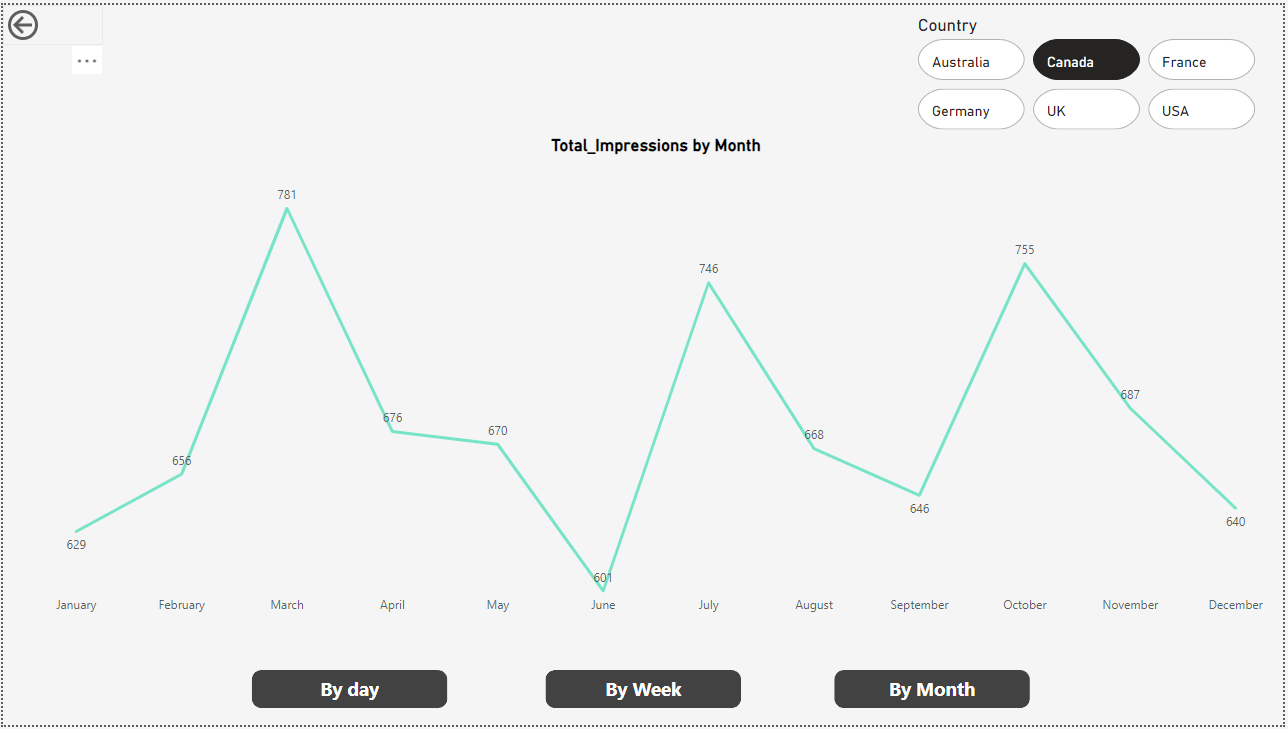

The page's visual inventory and layout, read from the dashboard file:
{"tool":"powerbi","page":{"name":"Timeline","canvas":[1280,720],"ordinal":3},"visuals":[{"type":"actionButton","box":[0,0,100,40],"z":0},{"type":"lineChart","fields":{"Y":["FitBitDataMarketing.Total_Impressions"],"Category":["FitBitDataMarketing.DateTime.Variation.Date Hierarchy.Month"]},"box":[26,129.9,1253.7,488.3],"z":1000},{"type":"shape","box":[542,664.9,195.7,38.1],"z":2000},{"type":"shape","box":[249.4,664.9,195.7,38.1],"z":3000},{"type":"advancedSlicerVisual","fields":{"Values":["Countries_To_imgs.Country"]},"box":[909.7,9.7,348.7,119.4],"z":4000},{"type":"shape","box":[831.2,664.9,195.7,38.1],"z":6000}]}

Visuals, with their boxes in screenshot pixels (x1, y1, x2, y2), scaled from the page's 1280x720 canvas onto the 1288x729 screenshot:
actionButton: region(0, 0, 101, 40)
lineChart - FitBitDataMarketing.Total_Impressions x FitBitDataMarketing.DateTime.Variation.Date Hierarchy.Month: region(26, 132, 1287, 626)
shape: region(545, 673, 742, 712)
shape: region(251, 673, 448, 712)
advancedSlicerVisual - Countries_To_imgs.Country: region(915, 10, 1266, 131)
shape: region(836, 673, 1033, 712)
